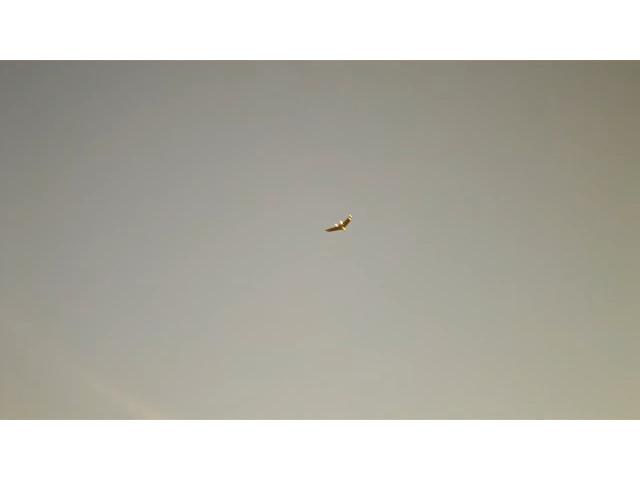Anti-Drone: (326, 214, 352, 232)
